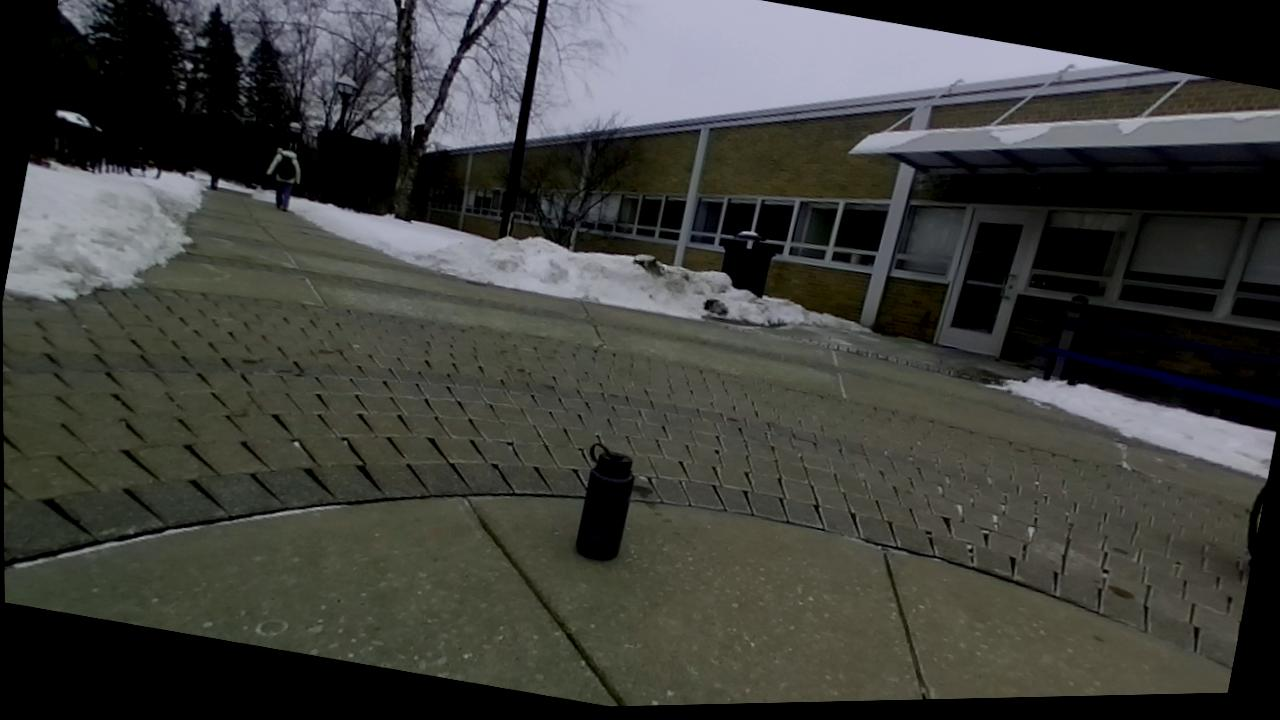bottle: (576, 442, 633, 558)
